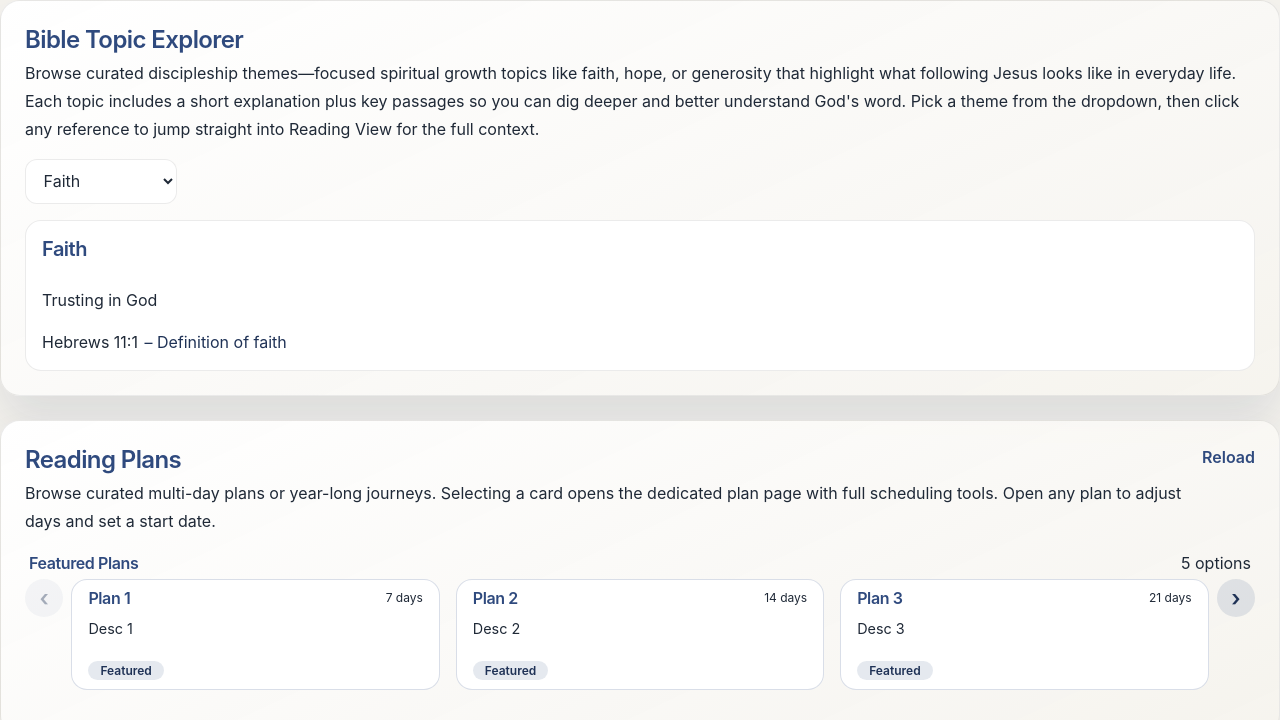
Test case: StudyResources › Carousel Navigation › goes back in featured carousel on previous arrow click
Advance first
Click the button with class "carousel-arrow" showing "›" at (1236, 598), box [1217,579,1255,617]
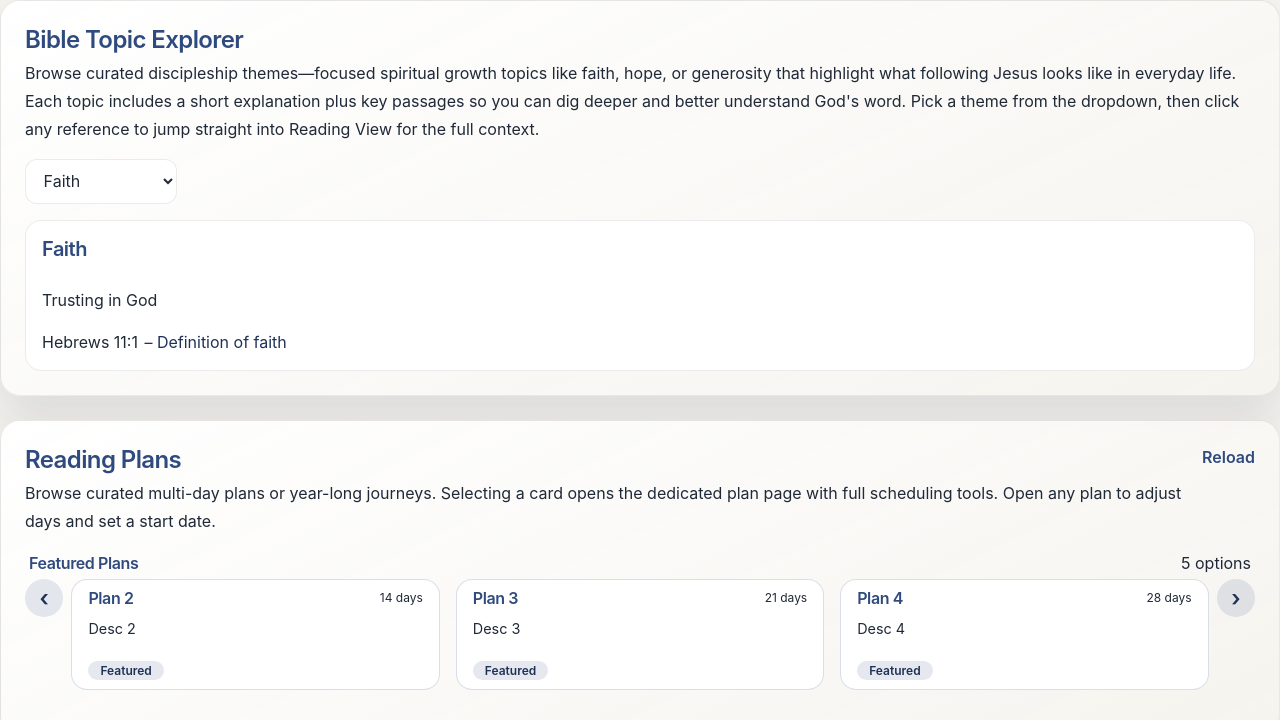
Then go back
Click the button with class "carousel-arrow" showing "‹" at (44, 598), box [25,579,63,617]
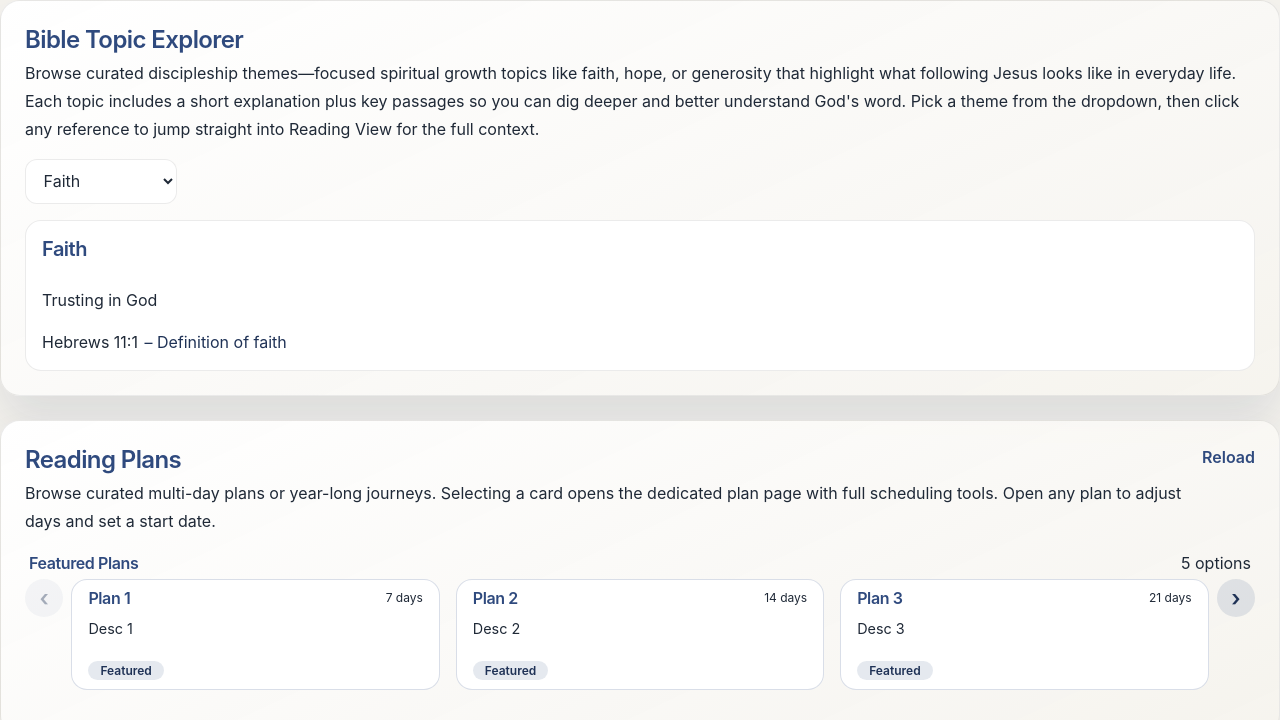
Check: the text "Plan 1" is shown, box [88,588,130,608]
